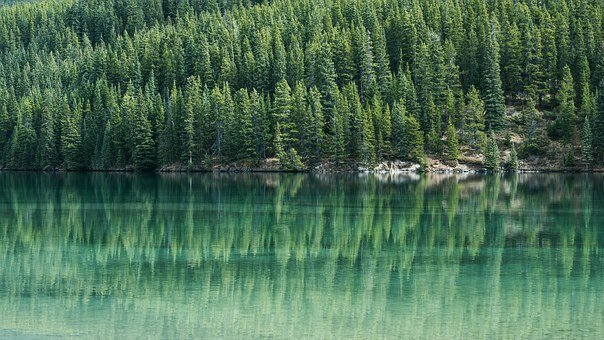forest: (5, 4, 591, 167)
lake: (7, 168, 595, 340)
